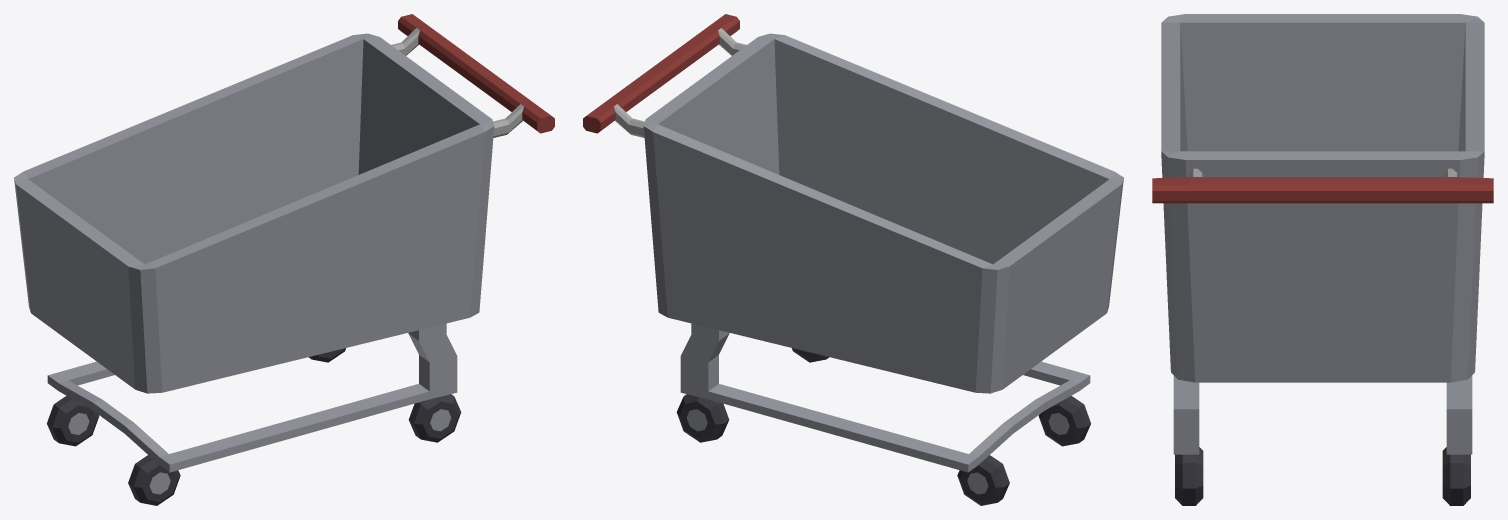
Rendered from Cart.fbx.
The picture shows the model from 3 angles, left to right: view 1: azimuth 30°, elevation 25°; view 2: azimuth 150°, elevation 25°; view 3: azimuth 270°, elevation 25°; orthographic projection. The views are drawn at different scales.
Visible parts, largest first — view 1: cart; view 2: cart; view 3: cart.
Boxes of the visible parts, x1,y1,x2,y2 form: cart: (14,14,554,505); cart: (583,14,1123,505); cart: (1152,14,1493,505).
Size of the model in its own units: 227 by 168 by 133.
